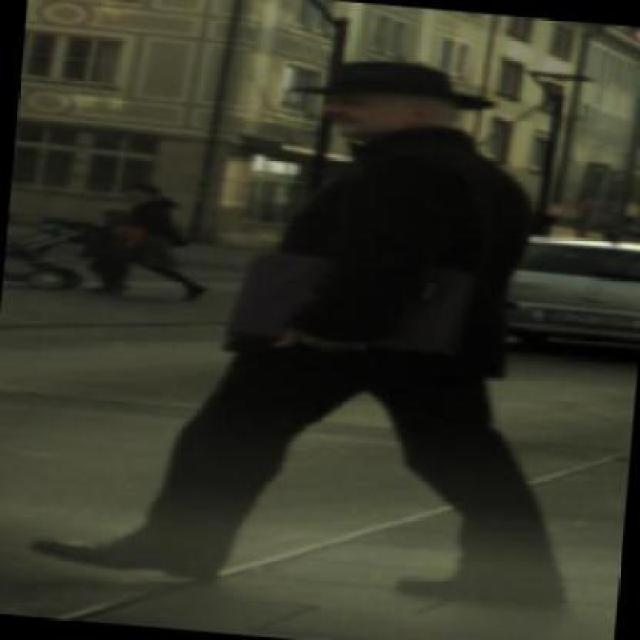sem_oculos: (321, 81, 460, 129)
